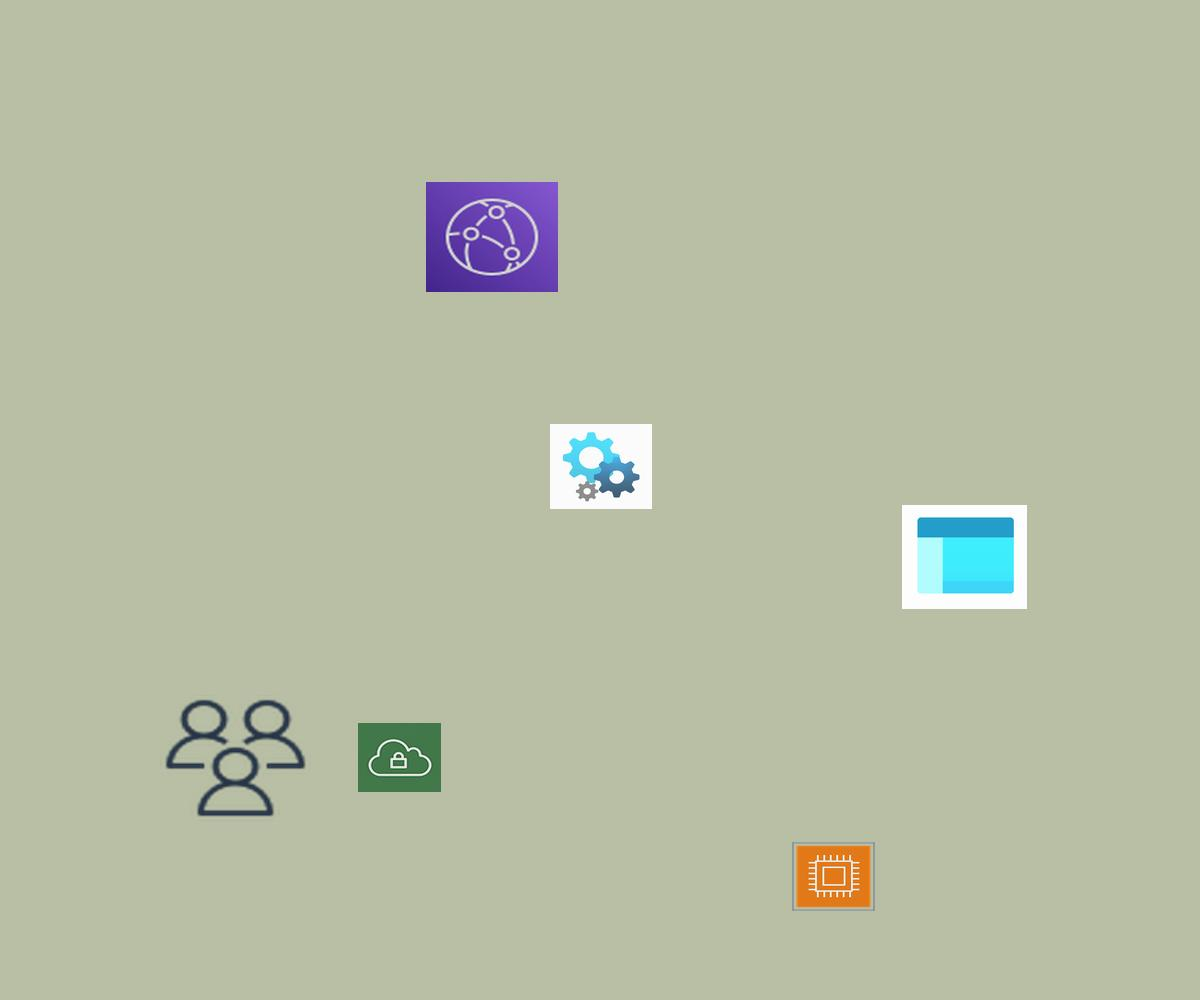AWS-Category_Compute: (792, 842, 875, 911)
AWS-CloudFront: (426, 182, 558, 292)
AWS-Private_vpc: (358, 723, 441, 792)
AWS-Res_Users: (160, 695, 311, 821)
Azure_api: (550, 424, 652, 509)
Azure_management-portal: (902, 505, 1027, 609)
